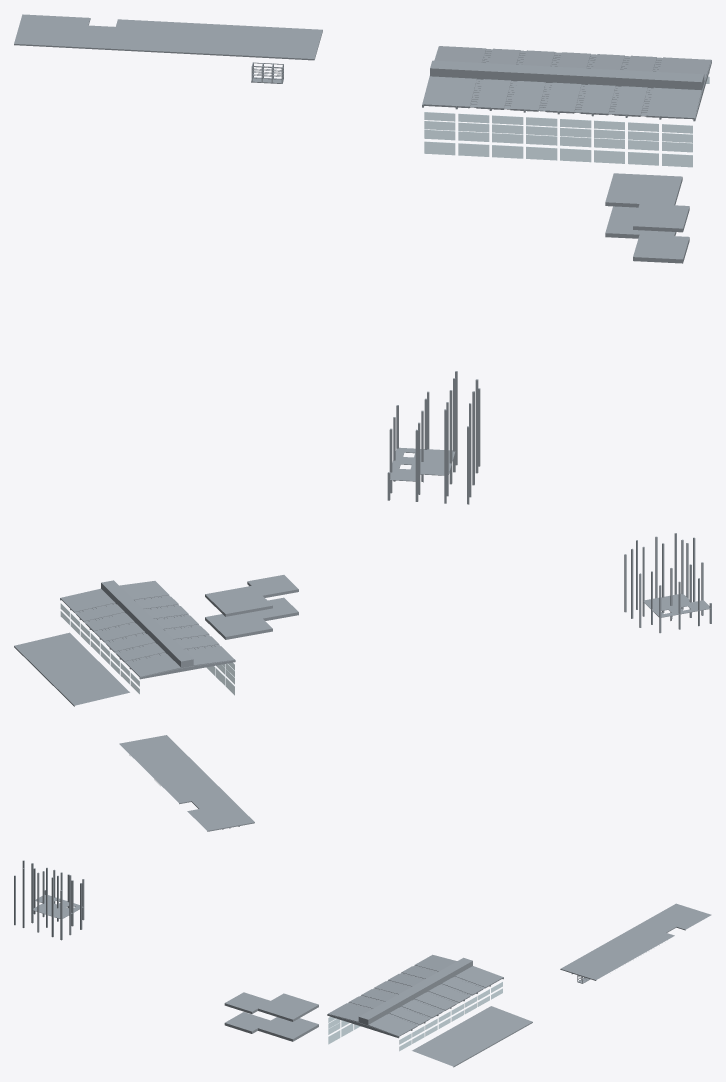
File: NoLod_5.glb
3 renders of one model, top to bottom at view 1: azimuth 30°, elevation 25°; view 2: azimuth 150°, elevation 25°; view 3: azimuth 270°, elevation 25°, orthographic. The views are drawn at different scales.
Visible parts, largest first — view 1: rtc; view 2: rtc; view 3: rtc.
Boxes of the visible parts, box(x1,y1,x2,y2) form: rtc: box(14, 14, 711, 504); rtc: box(14, 533, 711, 831); rtc: box(14, 860, 711, 1067).
Bounding box in the file's own units: 126 × 19.99 × 192.
